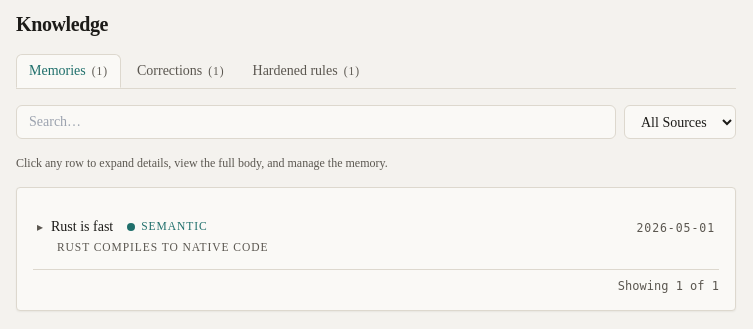
Test: Knowledge › renders corrections from client data when Corrections tab clicked
The image size is (753, 329).
Click the button "Corrections(1)": (181, 71) [125, 54, 236, 88]
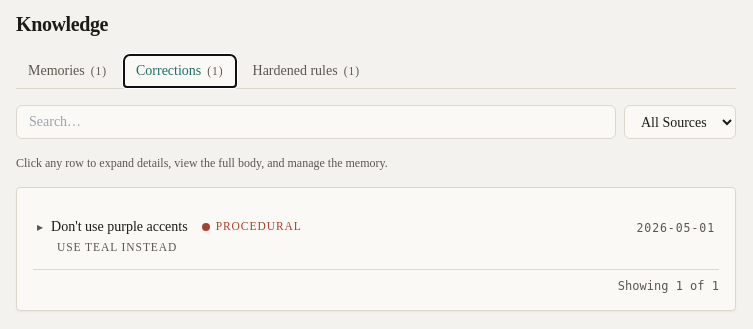
Check: the text "Don't use purple accents" is shown, box [51, 217, 188, 237]
